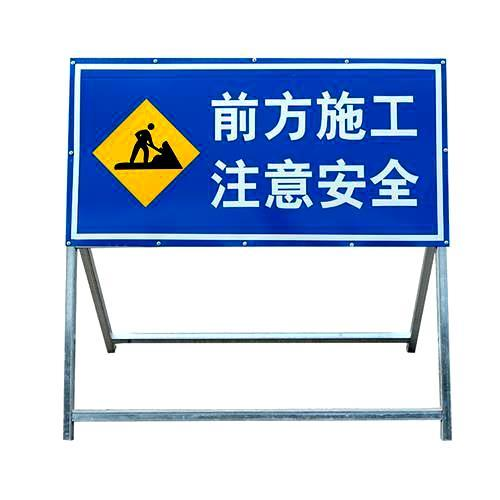sign: (65, 61, 448, 244)
